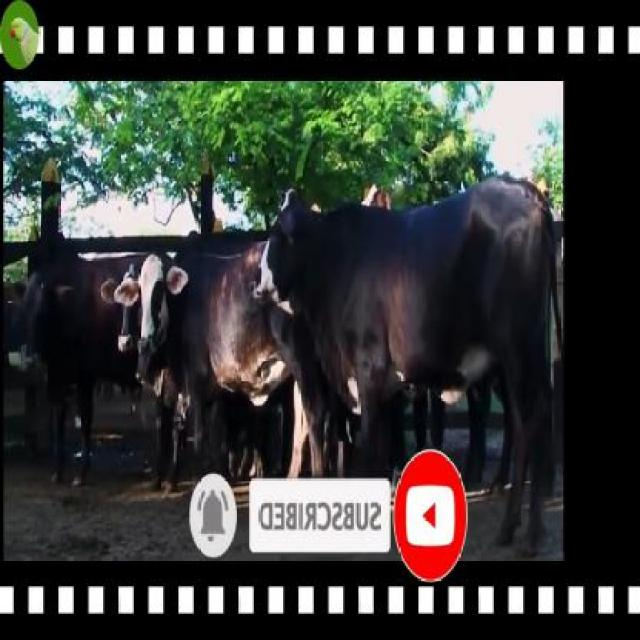Cow: (257, 183, 554, 485)
